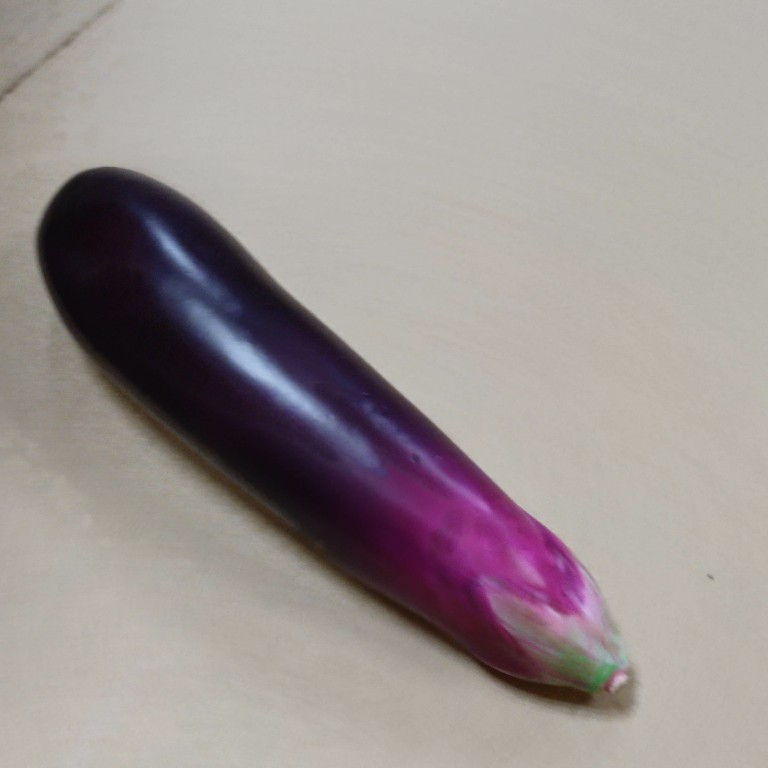fruit_eggplant: (31, 161, 642, 704)
